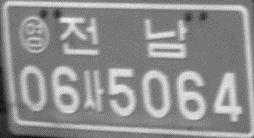0: (140, 68, 172, 119), (18, 64, 47, 112)
4: (213, 71, 243, 121)
5: (106, 67, 137, 117)
6: (174, 69, 207, 120), (49, 64, 80, 115)
사: (80, 69, 105, 112)
영: (18, 15, 50, 54)
전남_D: (58, 16, 188, 59)
